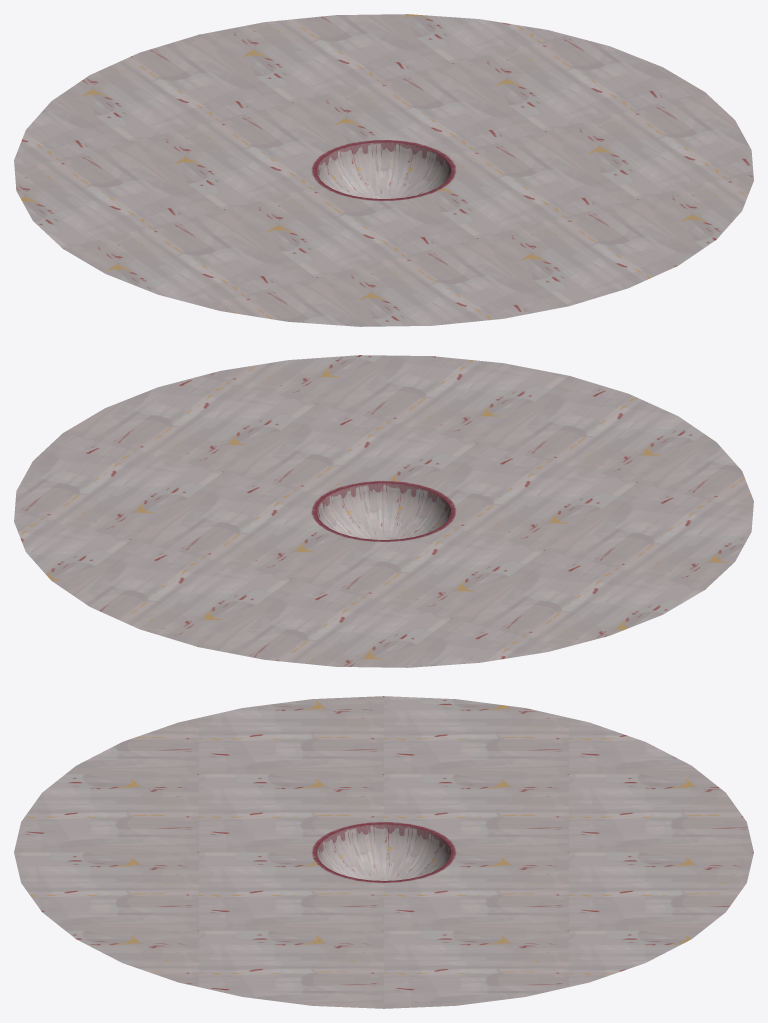
The model's file is newFloor.FBX.
3 renders of one model, top to bottom at view 1: azimuth 30°, elevation 25°; view 2: azimuth 150°, elevation 25°; view 3: azimuth 270°, elevation 25°, orthographic.
Visible parts, largest first — view 1: floor_01; view 2: floor_01; view 3: floor_01.
Boxes of the visible parts, x1=… form: floor_01: x1=14, y1=14, x2=753, y2=326; floor_01: x1=14, y1=355, x2=753, y2=667; floor_01: x1=14, y1=696, x2=753, y2=1008.
Bounding box in the file's own units: 324 × 18.72 × 324.
